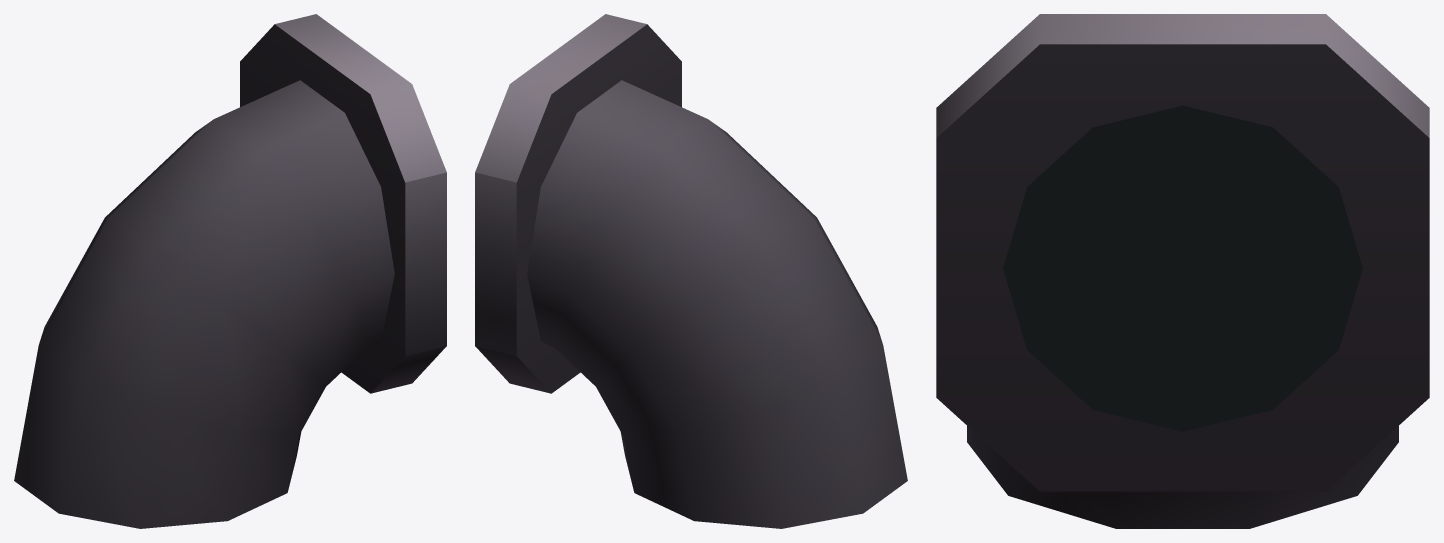
The model's file is Pipe_2B.fbx.
The picture shows the model from 3 angles, left to right: view 1: azimuth 30°, elevation 25°; view 2: azimuth 150°, elevation 25°; view 3: azimuth 270°, elevation 25°; orthographic projection. The views are drawn at different scales.
Visible parts, largest first — view 1: Pipe_2B; view 2: Pipe_2B; view 3: Pipe_2B.
Part boxes in pixels (x1,y1,x2,y2): Pipe_2B: (14,14,446,528); Pipe_2B: (475,14,907,528); Pipe_2B: (936,14,1429,528).
Bounding box in the file's own units: 1.57 × 1.69 × 1.37.
